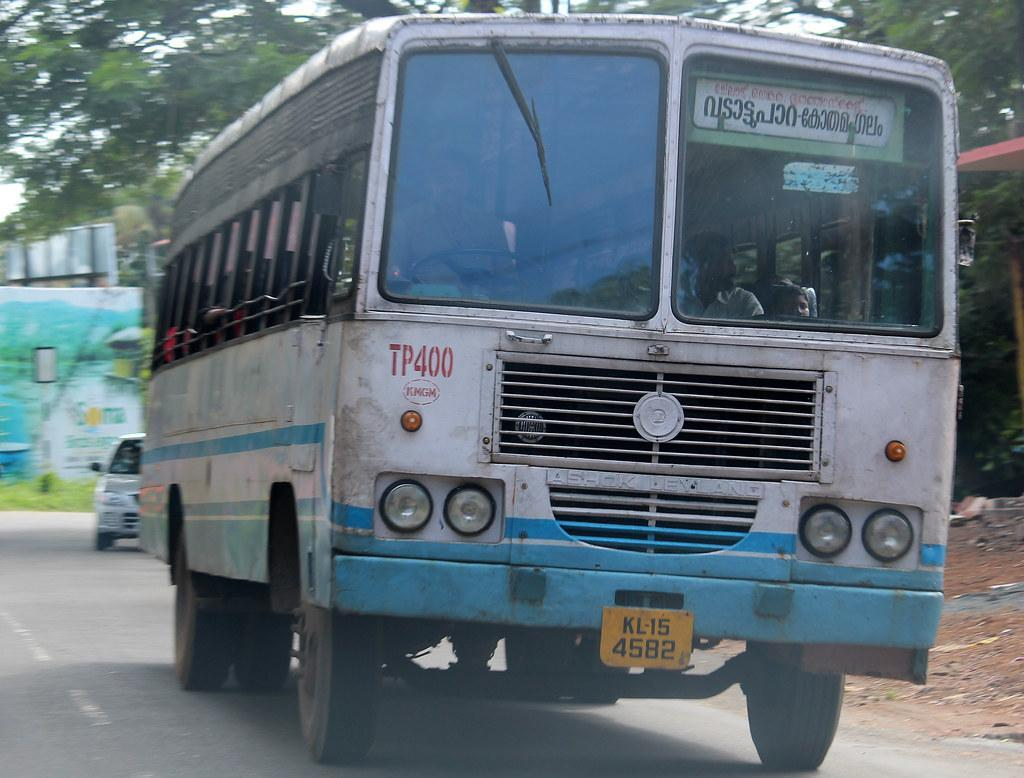Bus: (139, 16, 963, 773)
